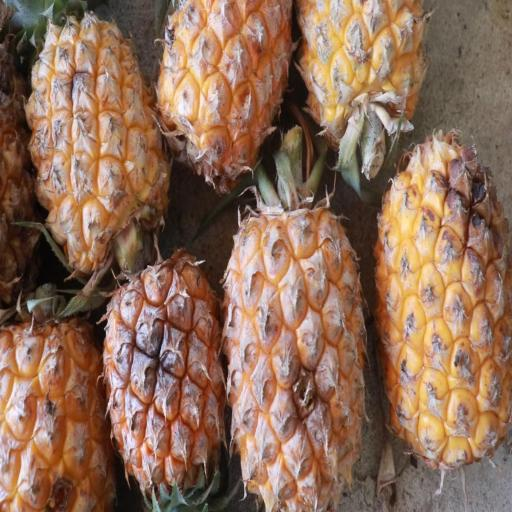Pineapple - v8 v1: (220, 149, 372, 512), (371, 128, 512, 483), (24, 0, 175, 290), (98, 243, 223, 510), (156, 0, 296, 189), (0, 292, 114, 509), (293, 0, 434, 165)
